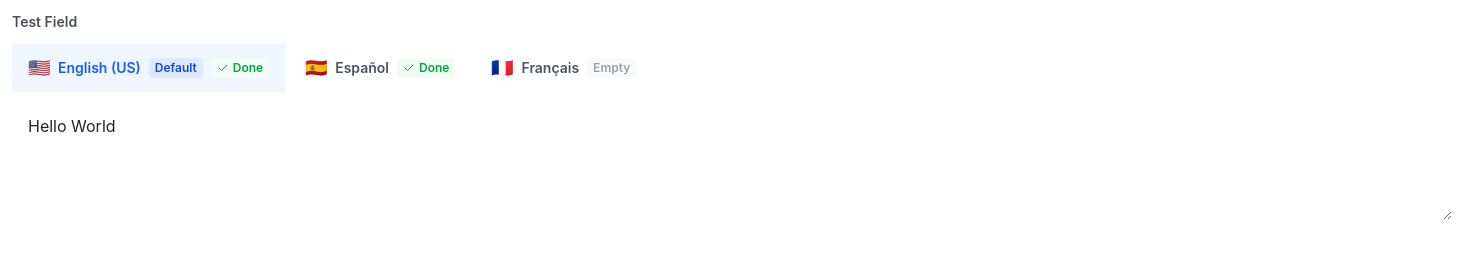
Test: TranslatableTextarea Component › Tab Switching › should show correct value when switching tabs
The width and height of the screenshot is (1464, 275).
Expected: the text box holds "Hello World", x1=12 y1=104 x2=1452 y2=220
Click the button "🇪🇸 Español Done" at (380, 68), box x1=289 y1=44 x2=472 y2=92
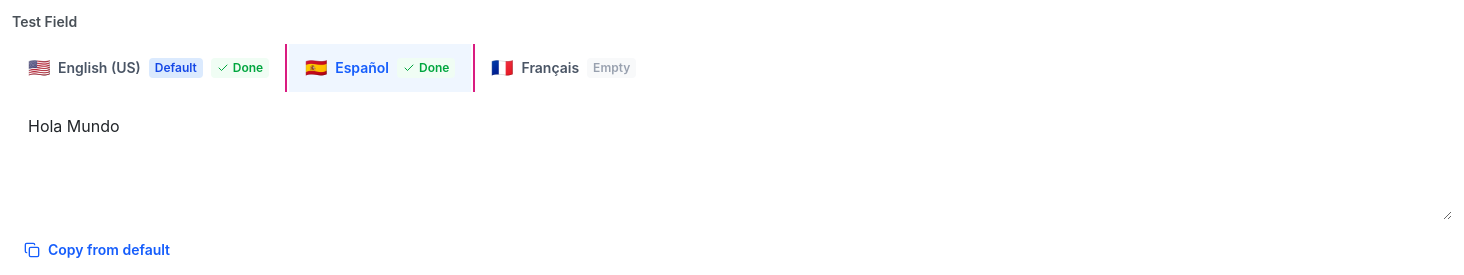
Now the text box holds "Hola Mundo", box x1=12 y1=104 x2=1452 y2=220
